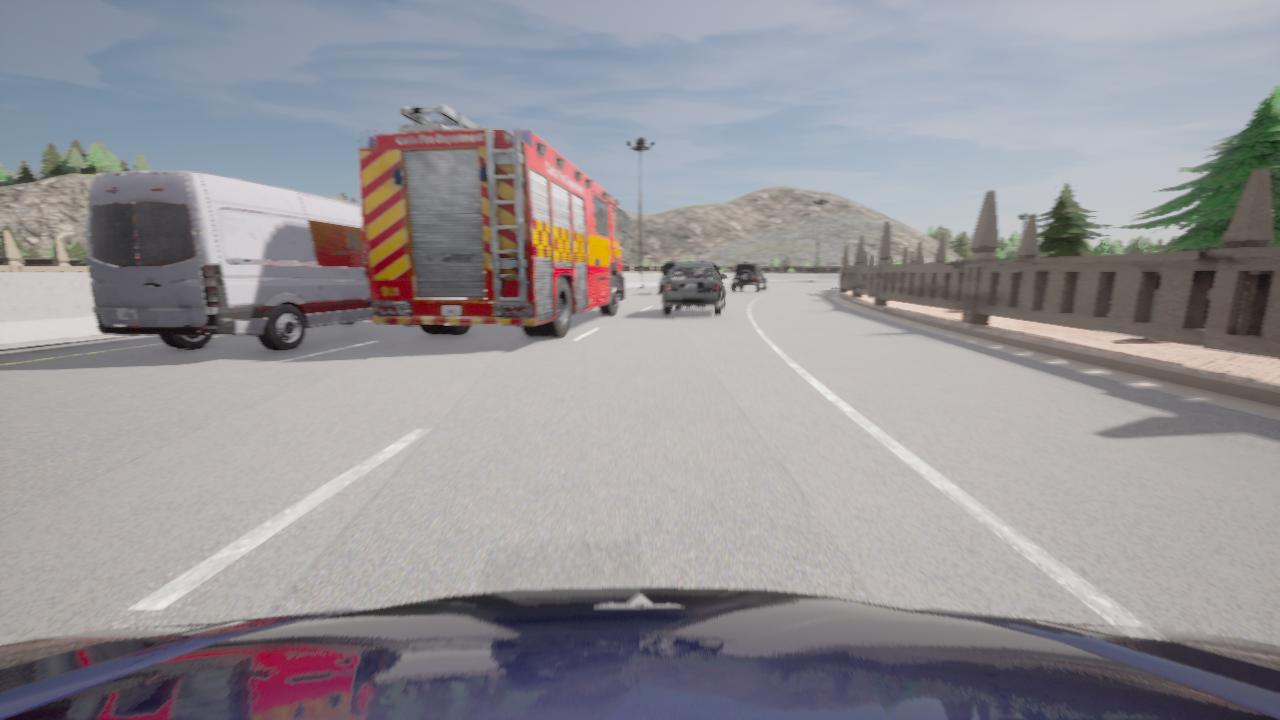cyclist: (0, 588, 1279, 719), (358, 103, 630, 337), (83, 171, 417, 350), (662, 262, 726, 316), (731, 263, 767, 292), (658, 262, 680, 293)
